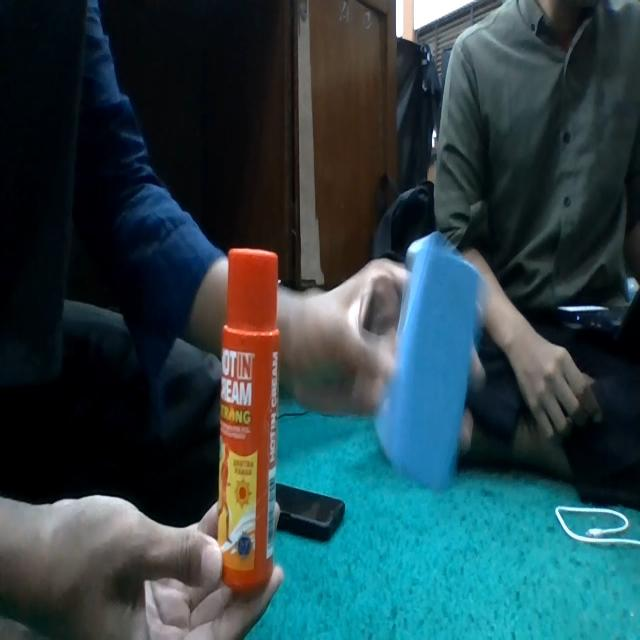Boncabe: (218, 249, 280, 594)
Powerbank: (374, 231, 482, 490)
